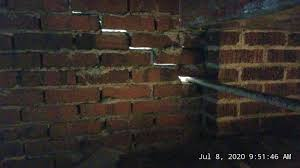stairstep_crack: (70, 9, 196, 83)
